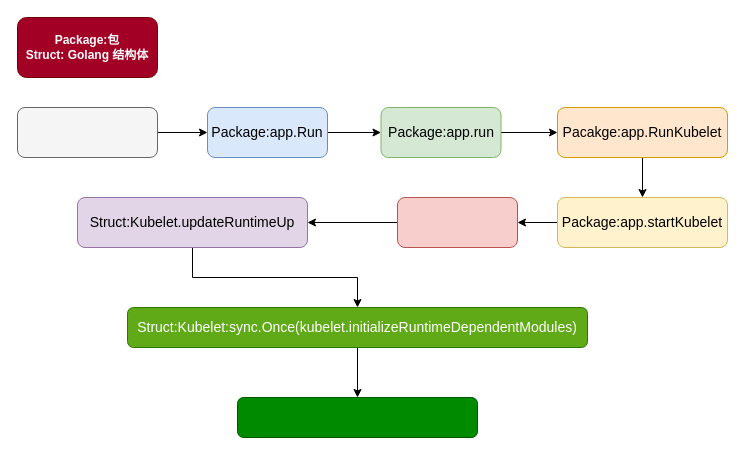
Some shapes in this 745 by 455 pixel diagram are drawn without their labels. Here are the shapes that lost their labels. From the top down, the centre of each, then its label:
At point 87,132: "cobra.Command.Run".
At point 457,222: "Struct:Kubelet.Run".
At point 357,417: "cadvisor.Start".
